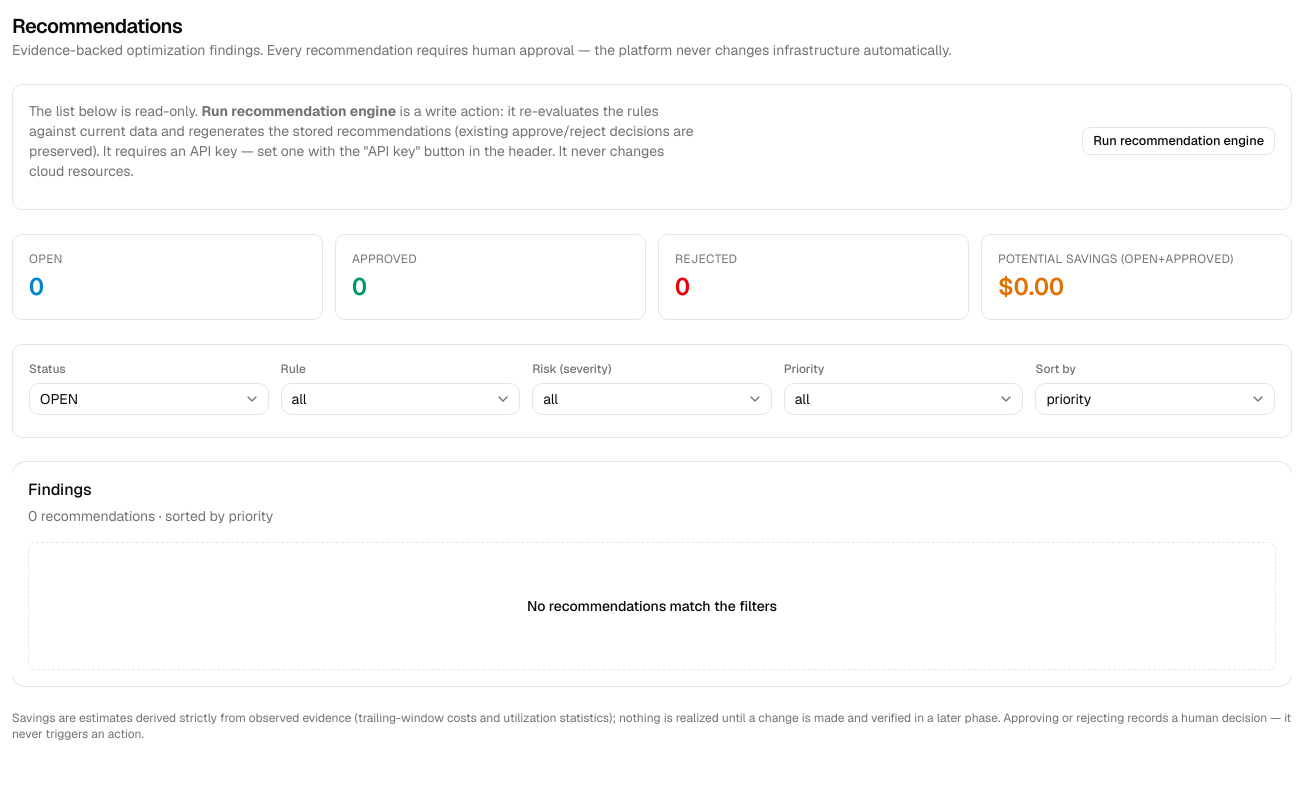
Test: Recommendations page › shows the API error (e.g. missing API key) when the run fails
The image size is (1304, 812).
Expected: the text "No recommendations match the filters" is shown, [527, 596, 777, 616]
Click the button "Run recommendation engine".
click(1179, 141)  # box [1082, 127, 1275, 155]
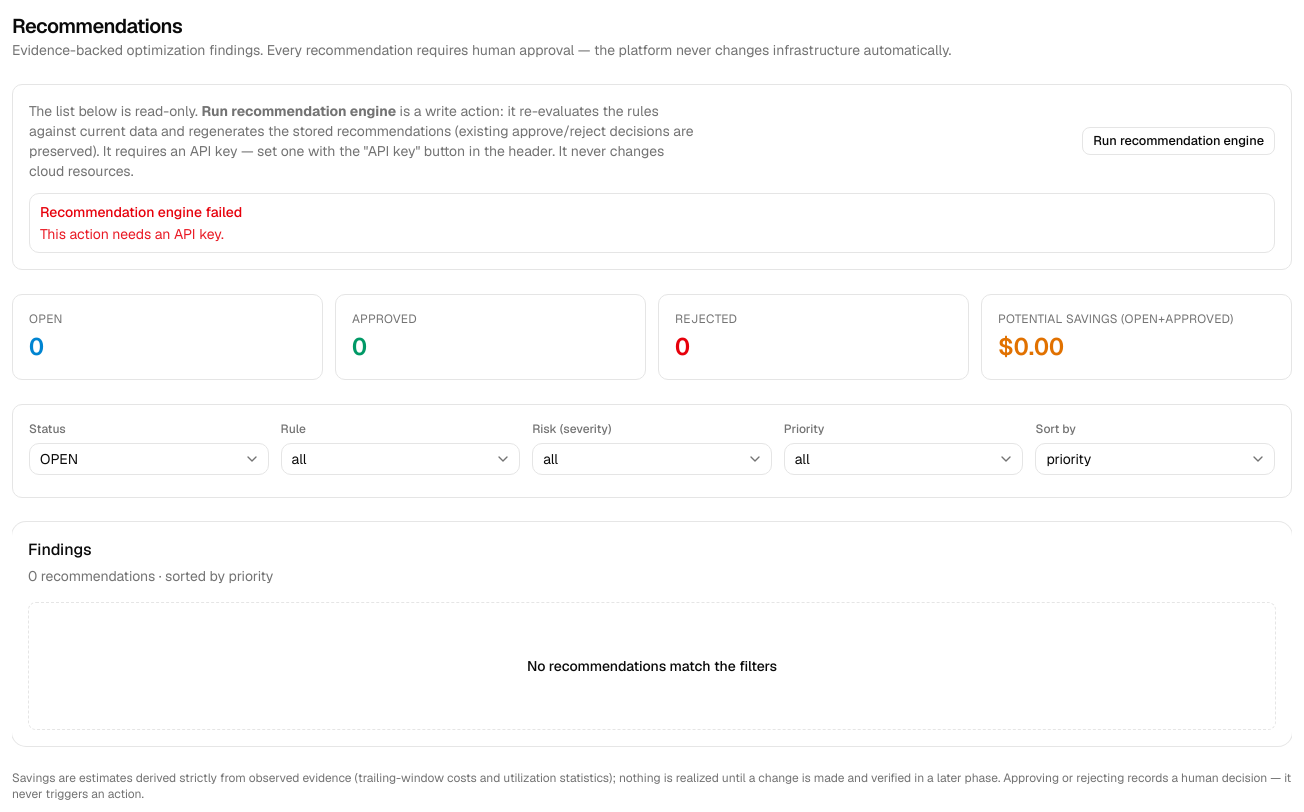
Expected: the text "Recommendation engine failed" is shown, [40, 203, 242, 221]
Expected: the text "This action needs an API key." is shown, [40, 225, 224, 243]
